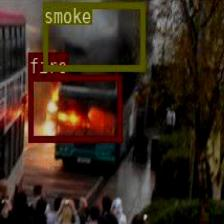fire: (27, 74, 121, 140)
smoke: (42, 2, 144, 71)
